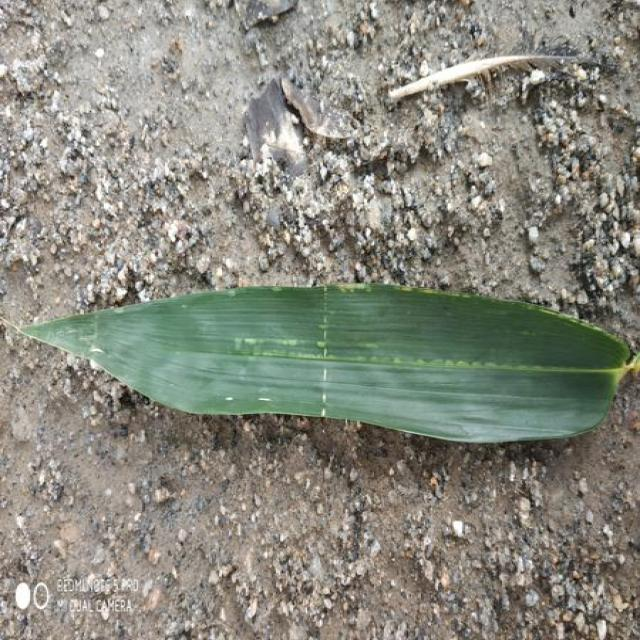Bamboo: (22, 285, 630, 442)
defectedBamboo: (235, 288, 630, 429)
